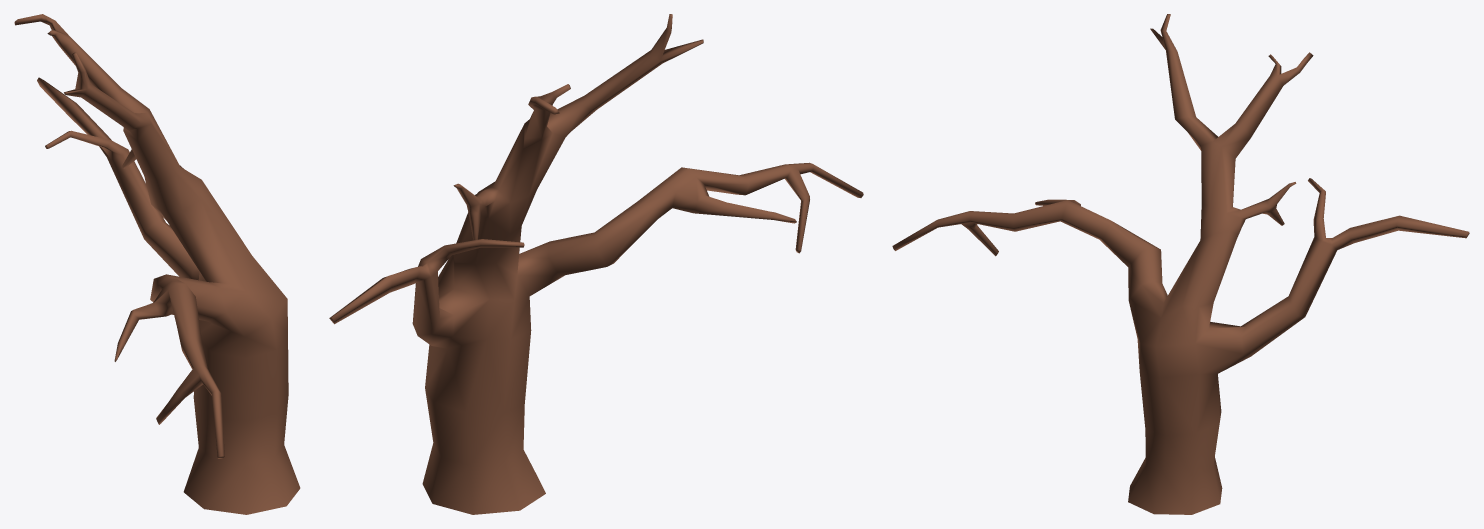
File: Arvore_9.fbx
3 views of the same model, side by side, from view 1: azimuth 30°, elevation 25°; view 2: azimuth 150°, elevation 25°; view 3: azimuth 270°, elevation 25° (orthographic). The views are drawn at different scales.
Parts seen in each view (by area): view 1: Arvore_9; view 2: Arvore_9; view 3: Arvore_9.
Boxes of the visible parts, x1,y1,x2,y2 form: Arvore_9: [14, 14, 300, 514]; Arvore_9: [329, 14, 863, 514]; Arvore_9: [892, 14, 1469, 514].
Bounding box in the file's own units: 7.95 × 3.49 × 6.24.
